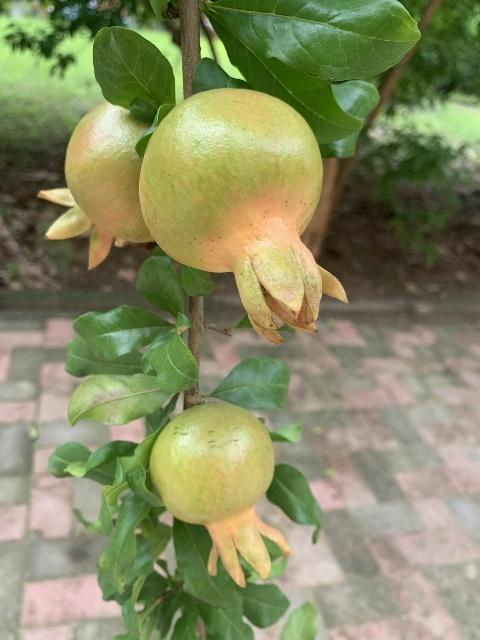mid-growth: (138, 87, 350, 346), (147, 400, 290, 587), (37, 101, 154, 270)
